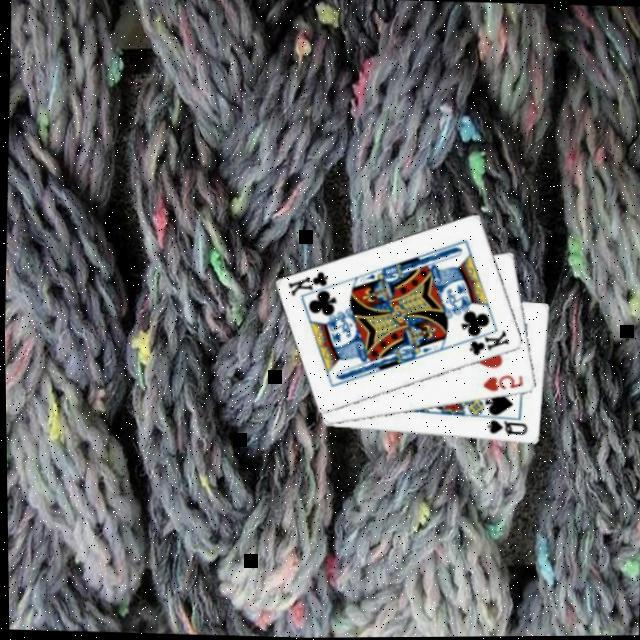5H: (476, 372, 523, 398)
KC: (283, 268, 336, 304), (456, 326, 509, 361)
QS: (481, 419, 528, 442)
